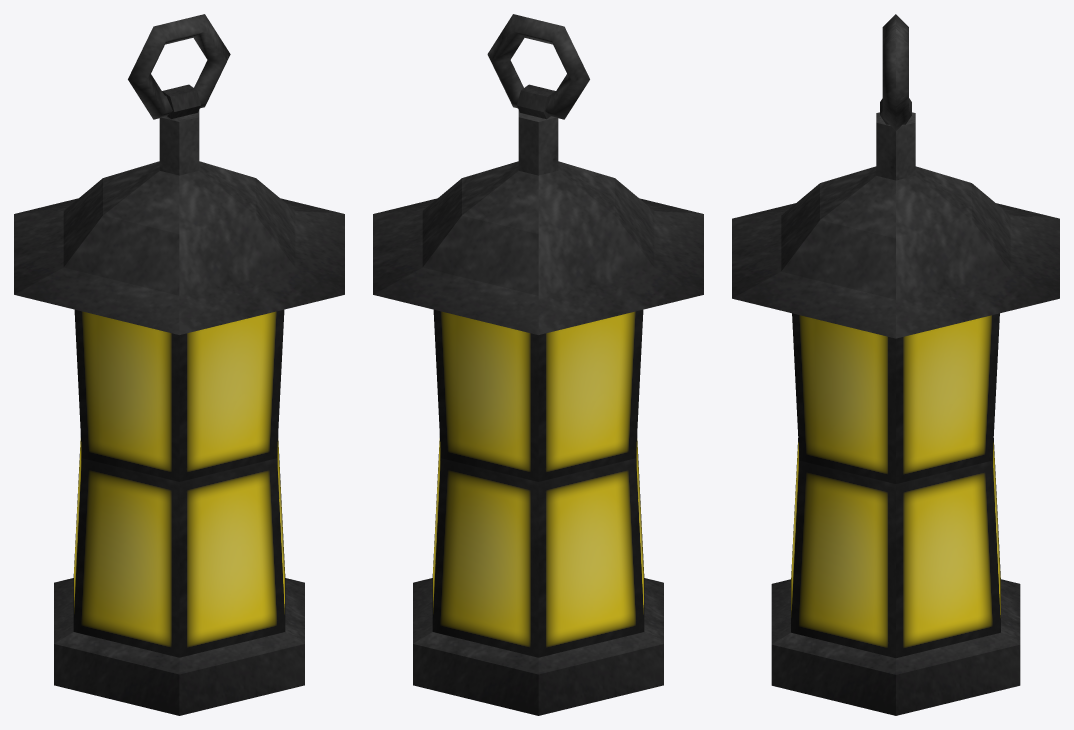
The model's file is Lantern.fbx.
3 views of the same model, side by side, from view 1: azimuth 30°, elevation 25°; view 2: azimuth 150°, elevation 25°; view 3: azimuth 270°, elevation 25° (orthographic).
Parts seen in each view (by area): view 1: Lamp_02; view 2: Lamp_02; view 3: Lamp_02.
Boxes of the visible parts, x1,y1,x2,y2 form: Lamp_02: (14, 14, 344, 715); Lamp_02: (373, 14, 703, 715); Lamp_02: (732, 14, 1059, 715).
Bounding box in the file's own units: 51.03 × 93.5 × 44.19.
